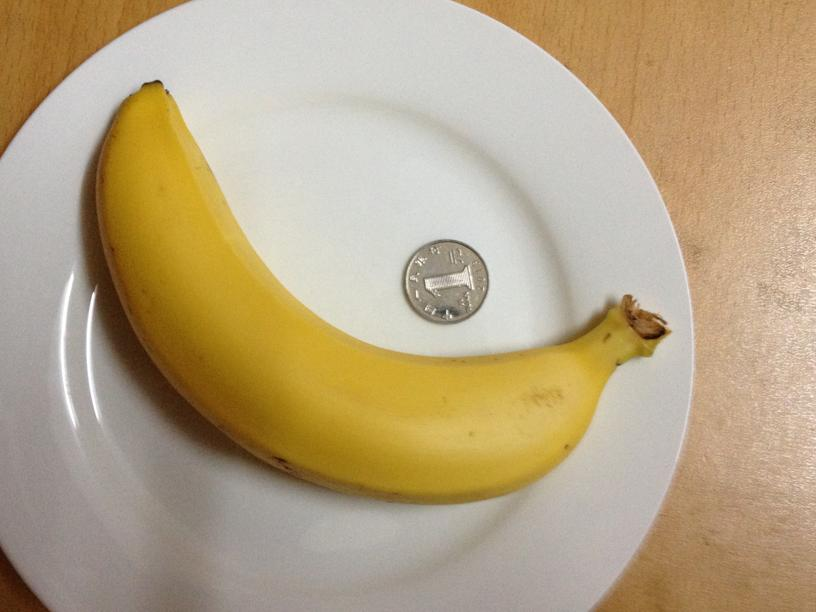banana: (95, 83, 646, 503)
coin: (405, 241, 488, 322)
